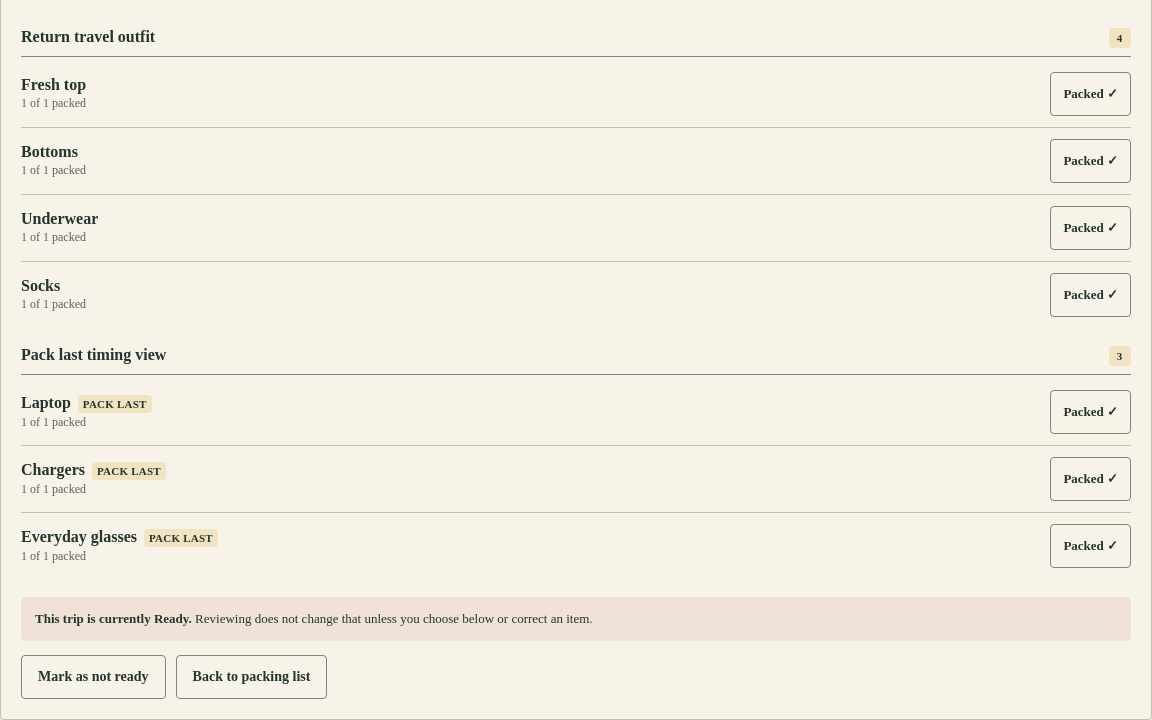
Test case: marking Ready and not ready › Mark as not ready keeps every packed quantity, asks nothing, and says so
(page scrolled)
Click the button "Mark as not ready": (93, 677) [21,655,166,699]
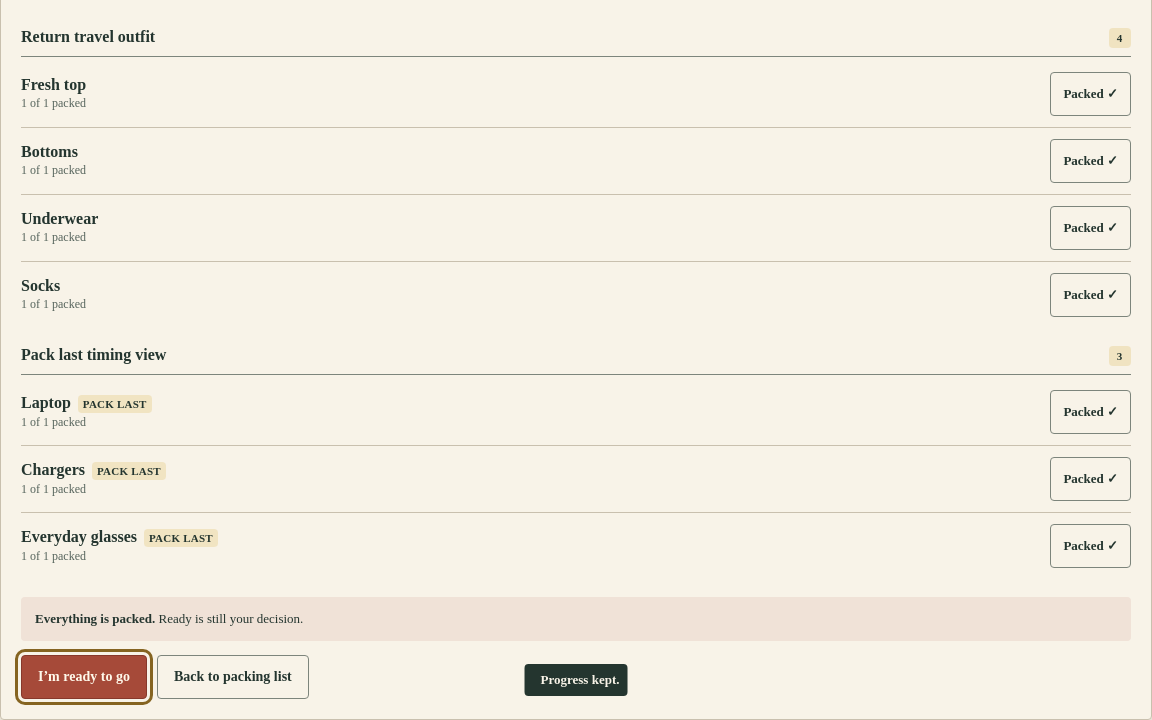
Expected: the text "Progress kept." is shown, [540,672,620,688]
Expected: the button "I’m ready to go" is shown, [21,655,147,699]
